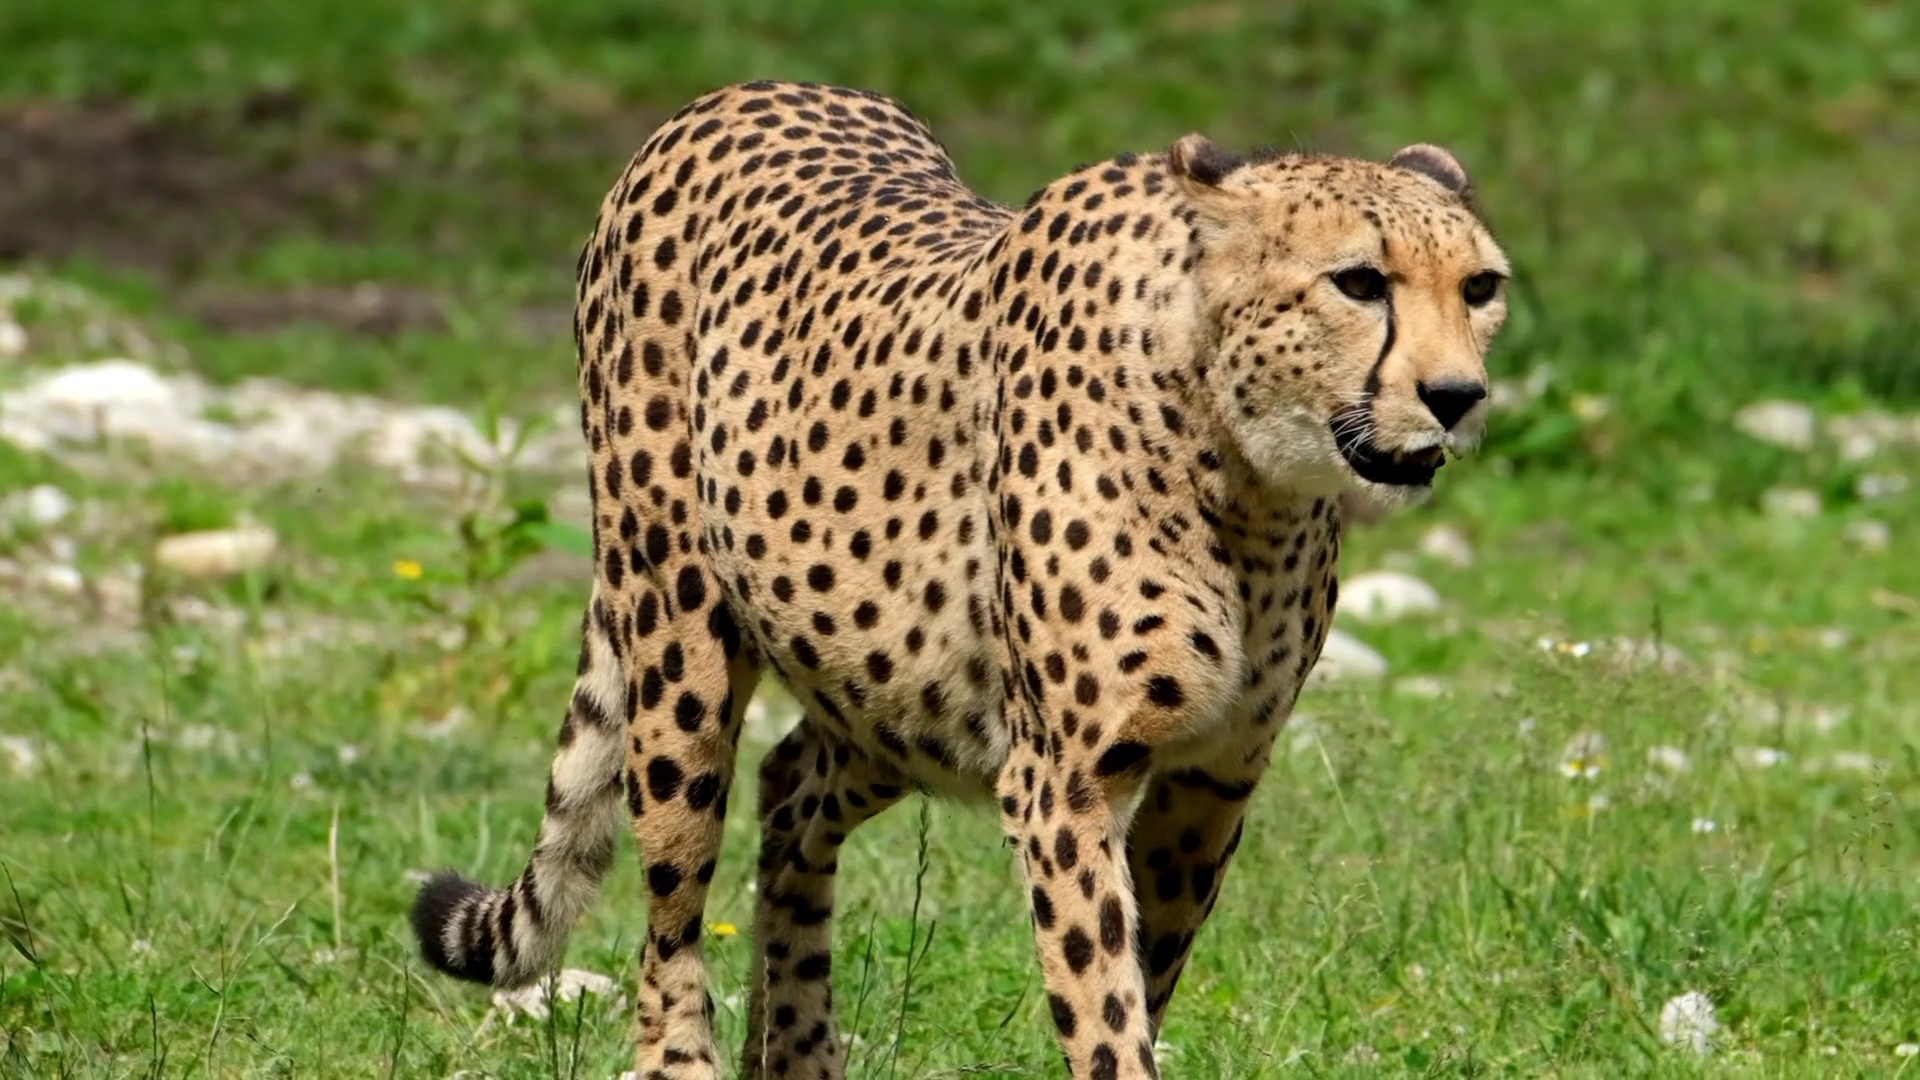Cheetah: (404, 67, 1515, 1080)
